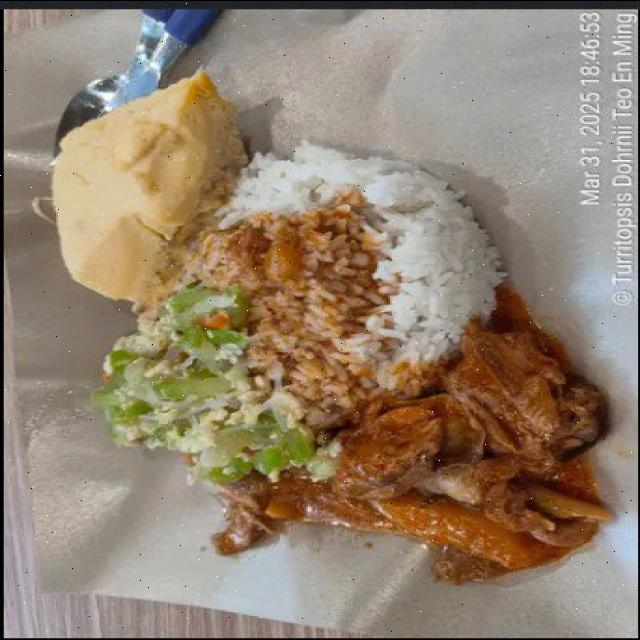Chicken: (213, 288, 610, 583)
Egg: (50, 70, 244, 310), (52, 72, 244, 303)
Green veg: (93, 283, 319, 480)
Rice: (190, 142, 502, 419)
